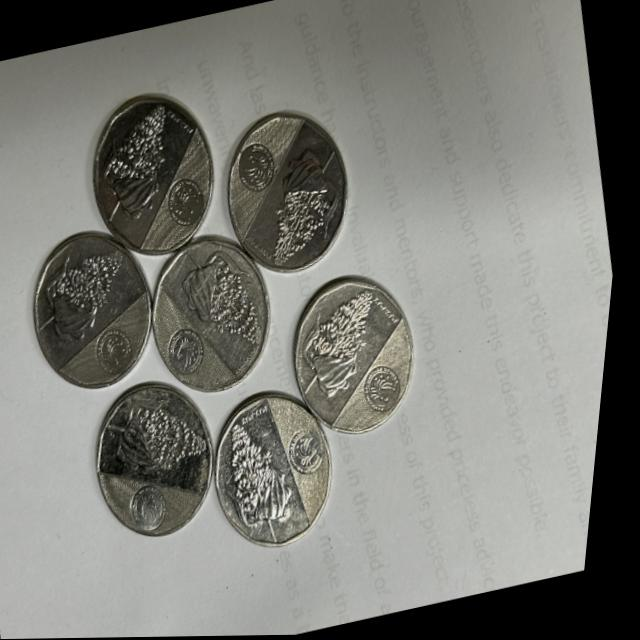10_New_Back: (247, 124, 364, 268), (296, 275, 410, 409), (171, 231, 281, 369), (94, 94, 202, 231), (221, 391, 315, 537), (96, 394, 221, 490), (39, 241, 148, 345)
